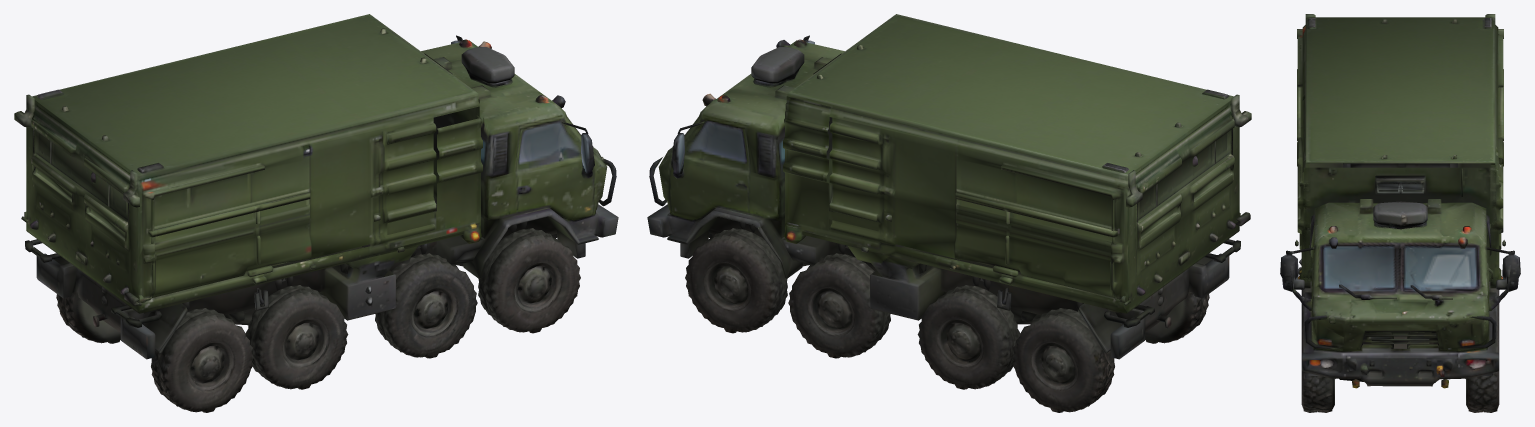
Rendered from veh_truck_cargo_a.glb.
3 renders of one model, left to right at view 1: azimuth 30°, elevation 25°; view 2: azimuth 150°, elevation 25°; view 3: azimuth 270°, elevation 25°, orthographic. The views are drawn at different scales.
Parts seen in each view (by area): view 1: veh_truck_cargo_a; view 2: veh_truck_cargo_a; view 3: veh_truck_cargo_a.
Boxes of the visible parts, left/top/right/bottom form: veh_truck_cargo_a: left=14, top=14, right=618, bottom=412; veh_truck_cargo_a: left=647, top=14, right=1251, bottom=412; veh_truck_cargo_a: left=1280, top=14, right=1520, bottom=412.
Bounding box in the file's own units: 6.43 × 3.2 × 3.1.
Materials: 1 (1 with a texture image).
